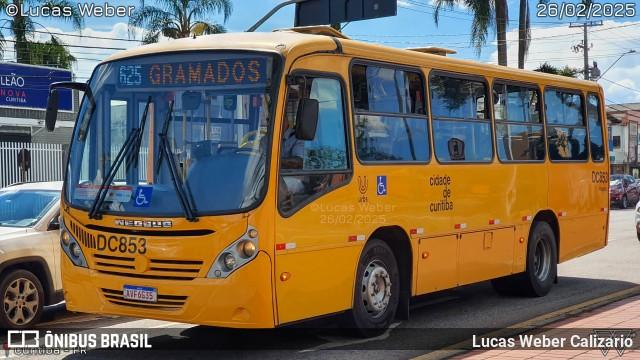GRAMADOS: (144, 56, 264, 88)
